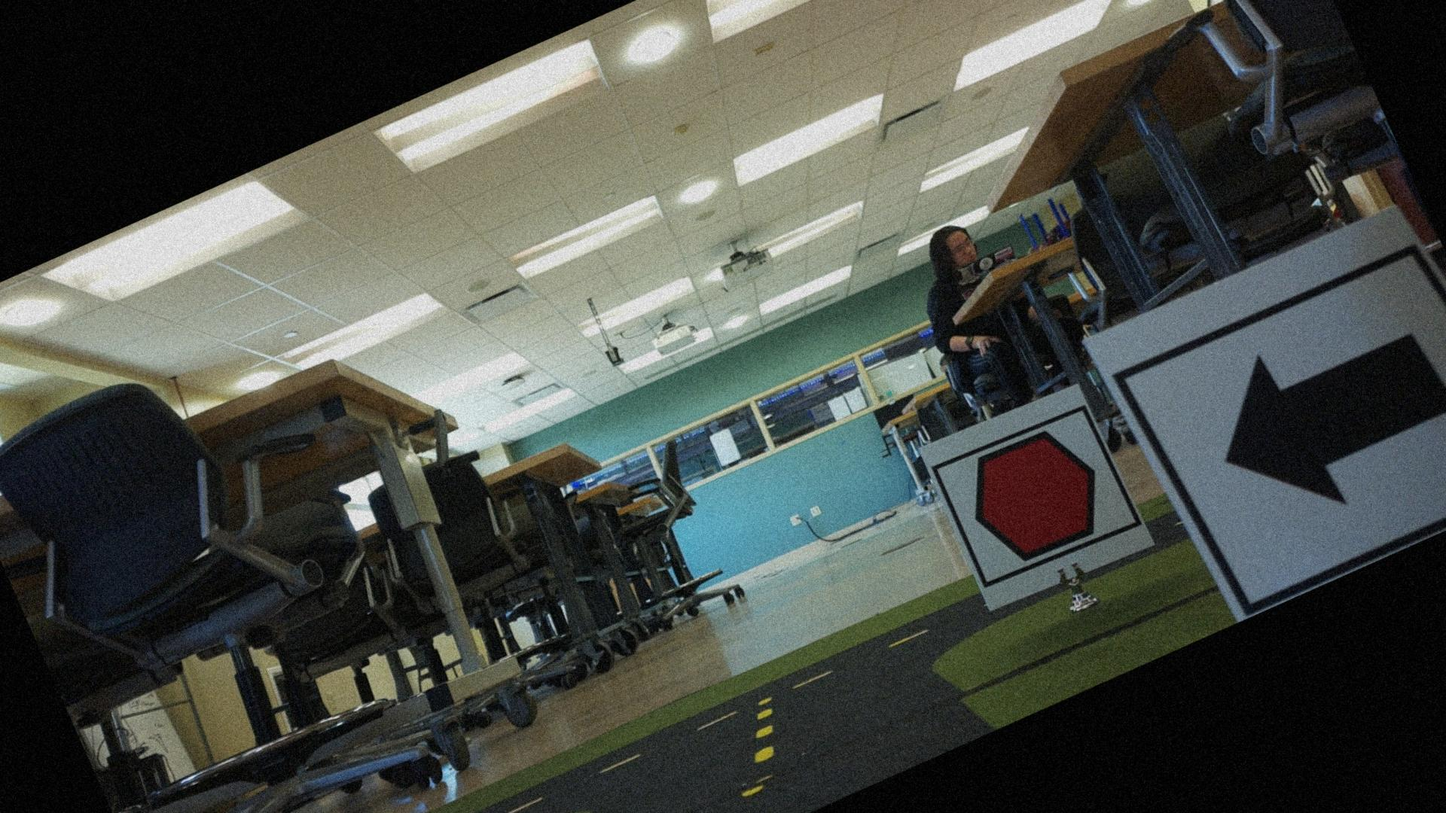stop: (932, 406, 1136, 588)
turnright: (1128, 245, 1445, 618)
yellowline: (695, 706, 814, 812)
